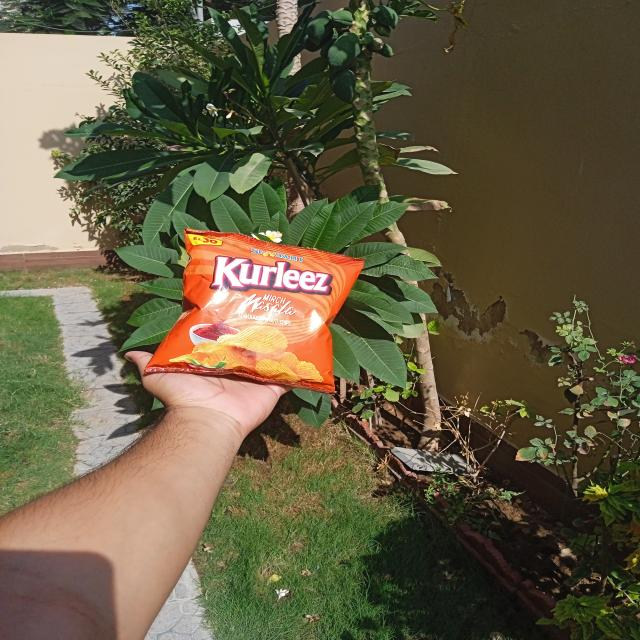Plastic: (146, 224, 370, 404)
